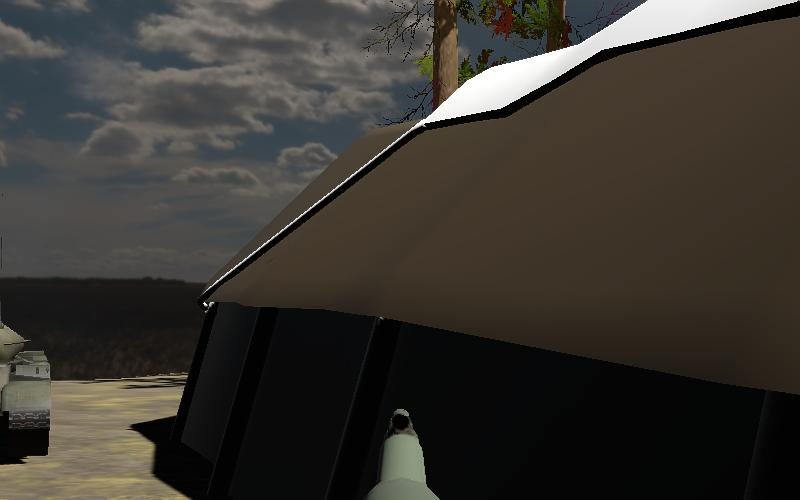Tank: (0, 300, 54, 462)
